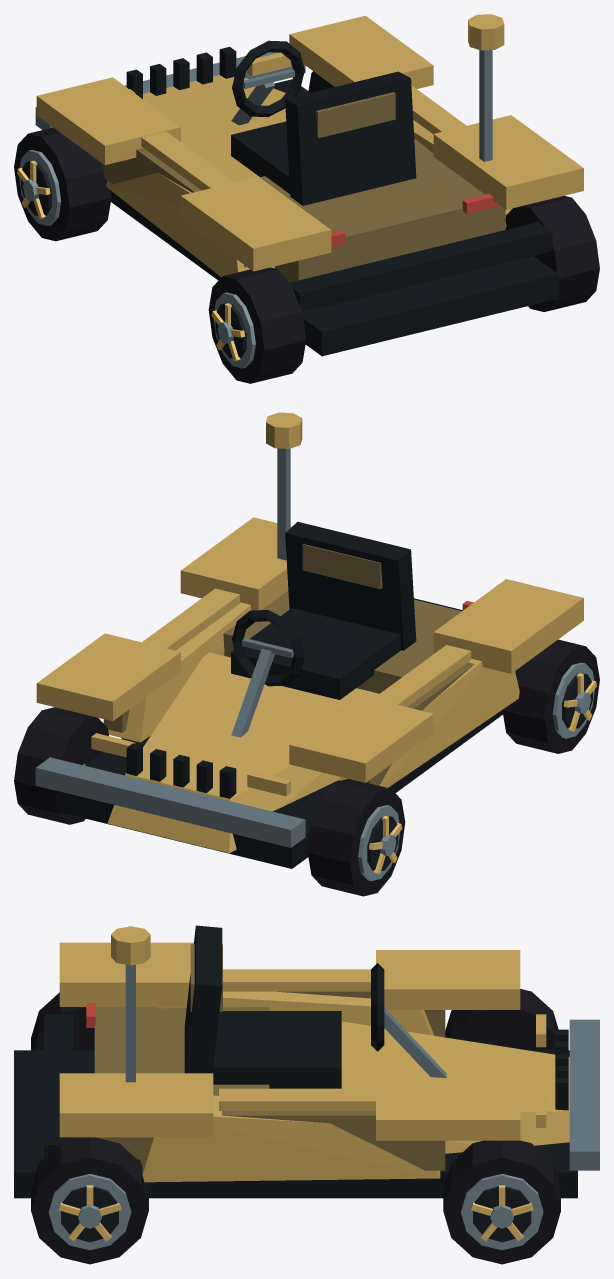
File: kart.glb
The picture shows the model from 3 angles, top to bottom: view 1: azimuth 30°, elevation 25°; view 2: azimuth 150°, elevation 25°; view 3: azimuth 270°, elevation 25°; orthographic projection. The views are drawn at different scales.
Parts seen in each view (by area): view 1: chassis, wheel-rear-left, wheel-front-left, wheel-rear-right; view 2: chassis, wheel-front-left, wheel-rear-left, wheel-front-right; view 3: chassis, wheel-rear-right, wheel-front-right, wheel-front-left, wheel-rear-left.
Part boxes in pixels (left/top/right/bottom): chassis: left=35, top=14, right=583, bottom=356; wheel-rear-left: left=208, top=267, right=306, bottom=383; wheel-front-left: left=14, top=127, right=111, bottom=241; wheel-rear-right: left=505, top=195, right=599, bottom=311; chassis: left=35, top=412, right=583, bottom=868; wheel-front-left: left=307, top=779, right=405, bottom=896; wheel-rear-left: left=502, top=639, right=599, bottom=753; wheel-front-right: left=14, top=707, right=108, bottom=824; chassis: left=14, top=925, right=599, bottom=1198; wheel-rear-right: left=31, top=1137, right=148, bottom=1264; wheel-front-right: left=443, top=1140, right=560, bottom=1264; wheel-front-left: left=445, top=989, right=558, bottom=1050; wheel-rear-left: left=31, top=992, right=94, bottom=1050.
Bounding box in the file's own units: 2.33 × 1.72 × 3.09.
